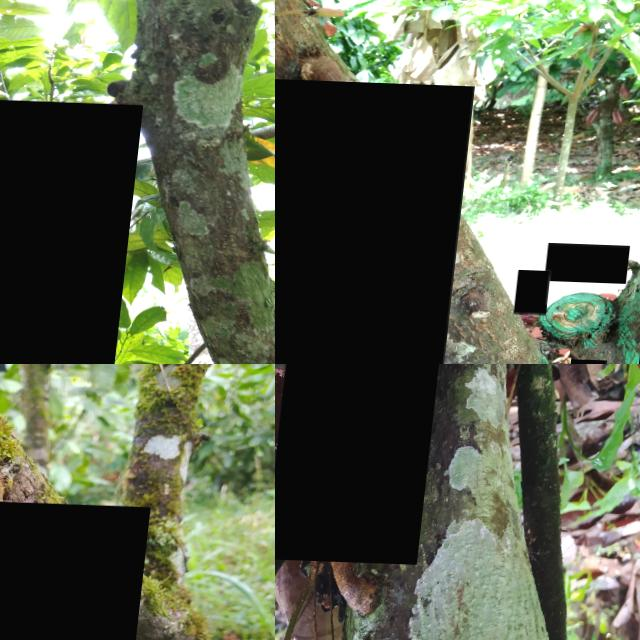Fitoftora: (275, 77, 479, 364), (0, 96, 146, 364), (0, 497, 154, 640)
Monilia: (275, 364, 457, 561)
Sana: (554, 239, 639, 279), (524, 266, 559, 311)
